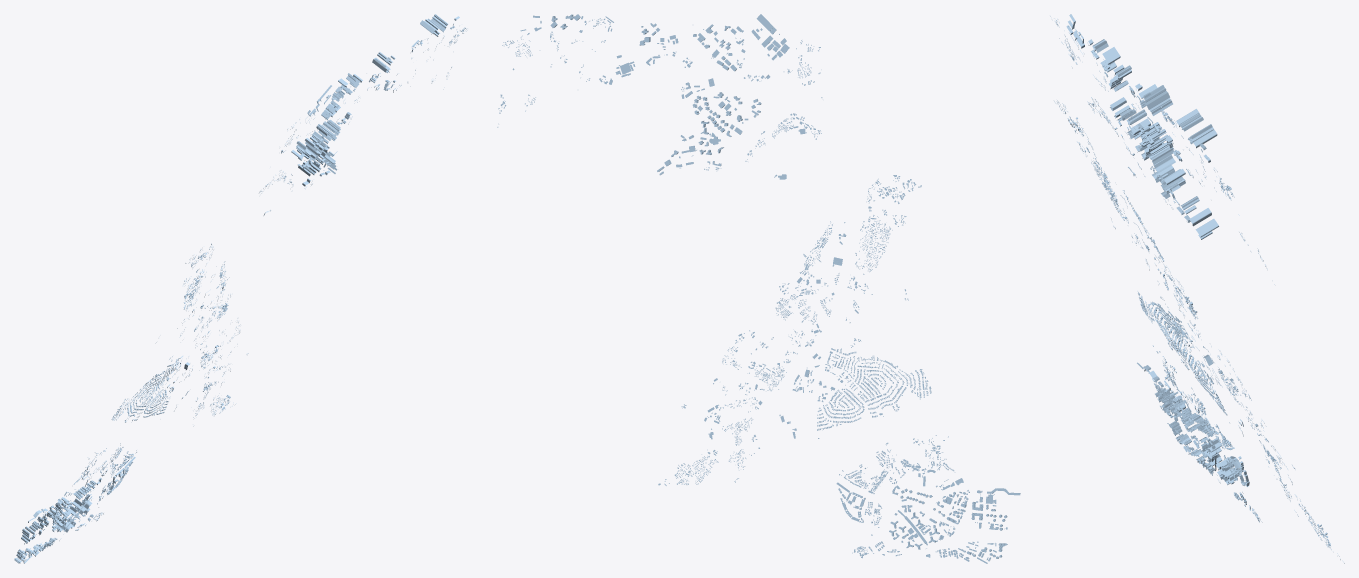
3 views of the same model, side by side, from view 1: azimuth 30°, elevation 25°; view 2: azimuth 150°, elevation 25°; view 3: azimuth 270°, elevation 25° (orthographic). The views are drawn at different scales.
Parts seen in each view (by area): view 1: geometry_0; view 2: geometry_0; view 3: geometry_0.
Boxes of the visible parts, box(x1,y1,x2,y2) form: geometry_0: box(14, 14, 467, 563); geometry_0: box(497, 14, 1020, 563); geometry_0: box(1050, 14, 1344, 563).
Bounding box in the file's own units: 5309 × 4757 × 2047.
